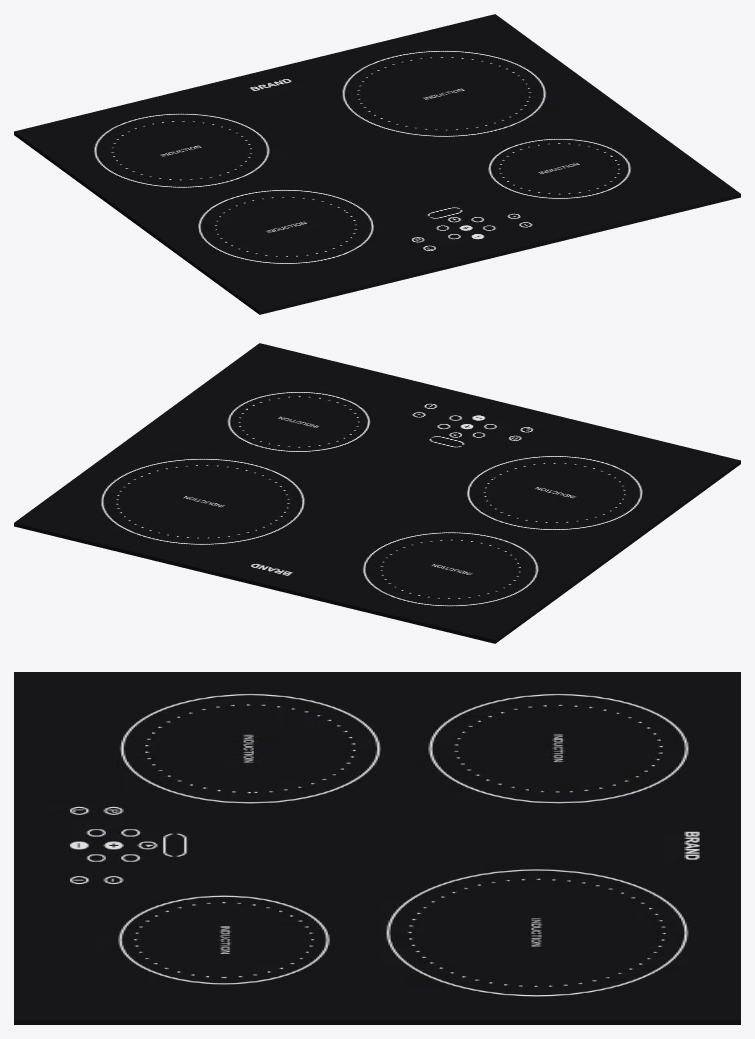
File: fit-hob.glb
3 renders of one model, top to bottom at view 1: azimuth 30°, elevation 25°; view 2: azimuth 150°, elevation 25°; view 3: azimuth 270°, elevation 25°, orthographic. The views are drawn at different scales.
Size of the model in its own units: 56 by 0.3999 by 49.5.
Materials: 1 (1 with a texture image).
